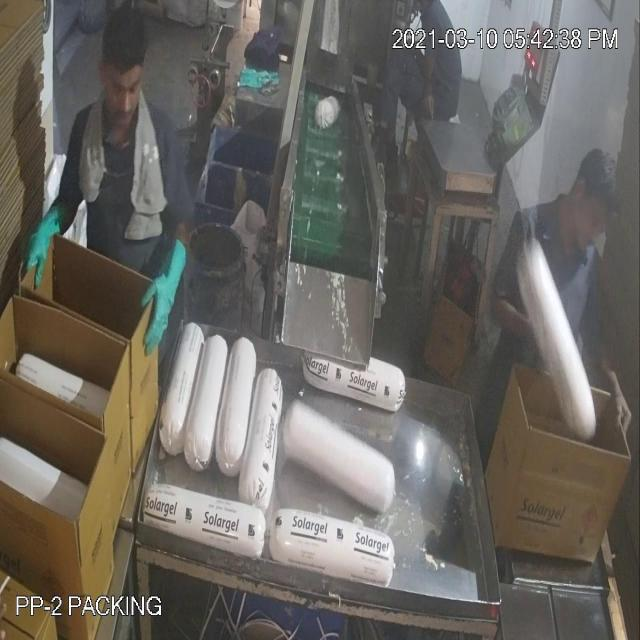Gloves: (46, 82, 610, 383)
